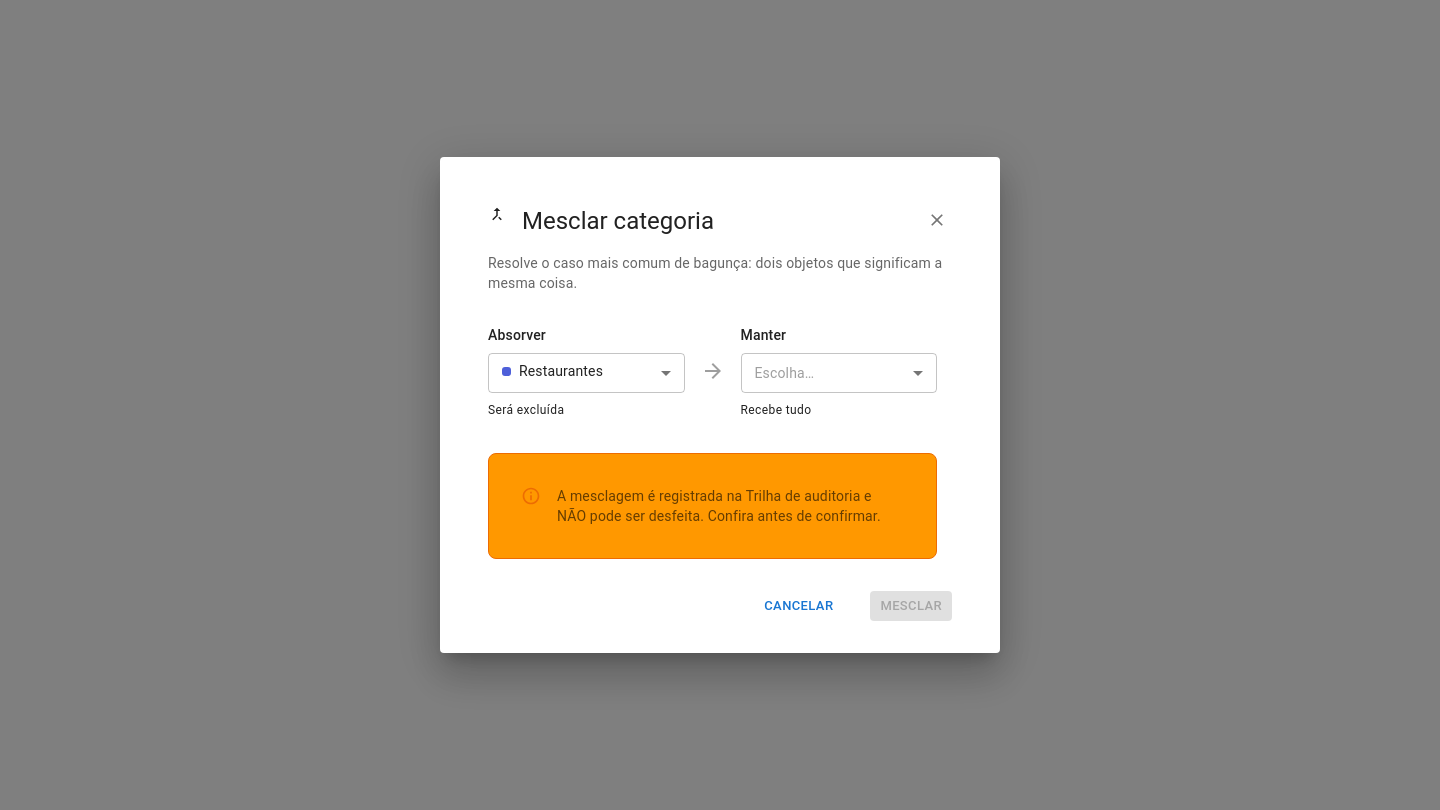
Test case: MergeDialog › mostra os chips com as contagens reais, inclusive as zeradas, e habilita a confirmação
Click the dropdown named "Manter": point(784, 373) [754,365,814,381]
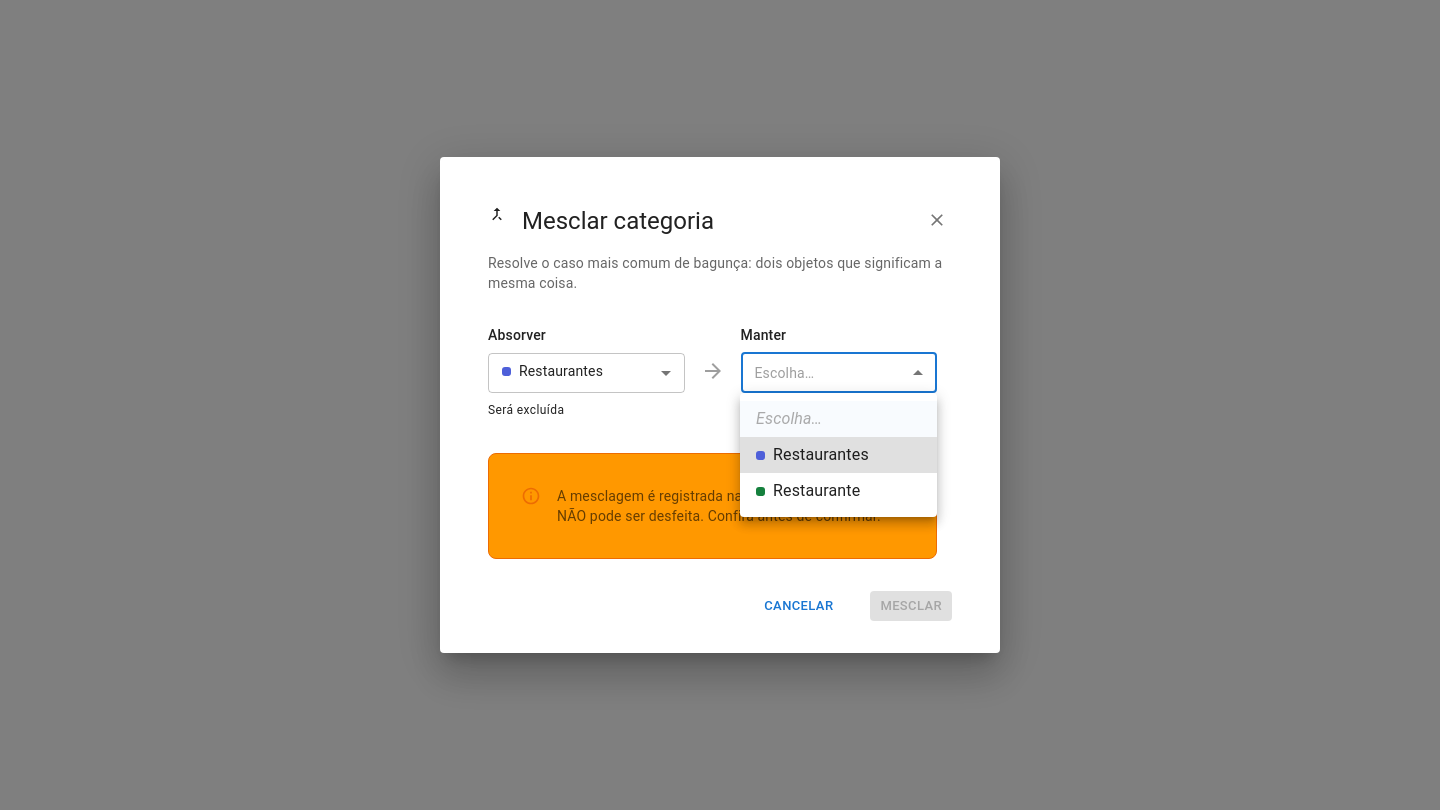
Click the option "Restaurante": point(808, 490) [756,481,860,500]
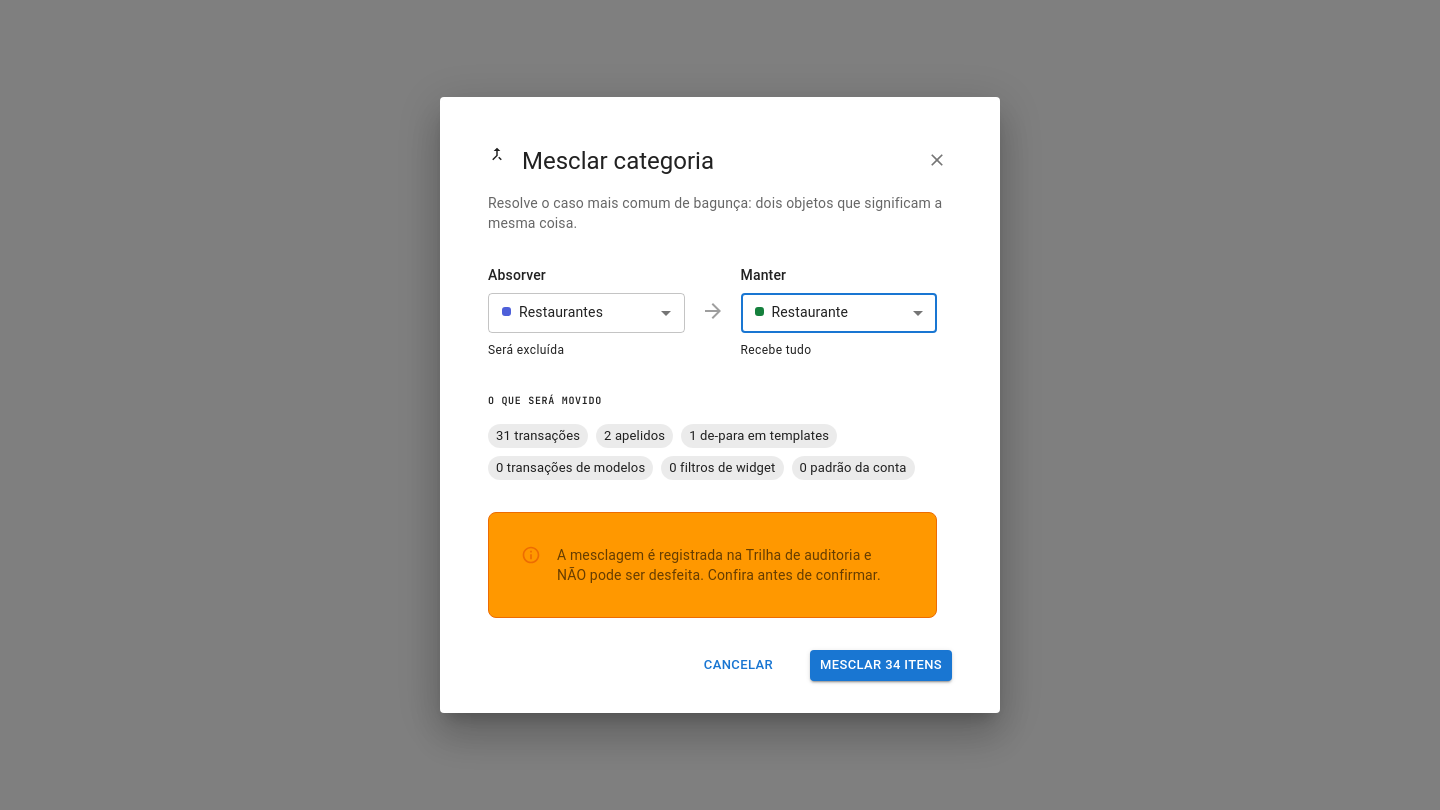
Expected: the text "31 transações" is shown, [496,428,580,443]
Expected: the text "0 transações de modelos" is shown, [488,458,653,478]
Expected: the text "0 filtros de widget" is shown, [661,458,784,478]
